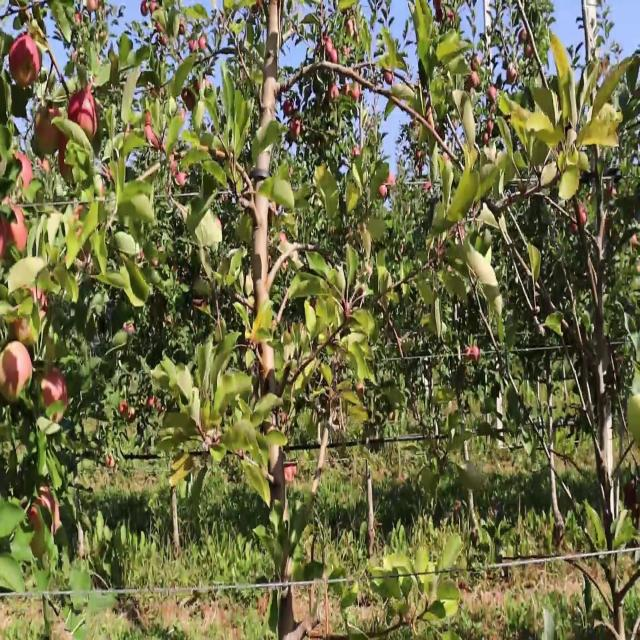apple: (0, 341, 33, 405), (8, 35, 43, 89), (68, 92, 100, 144), (40, 369, 69, 416), (32, 490, 61, 537), (36, 106, 62, 156), (4, 206, 28, 256), (12, 312, 35, 350), (28, 284, 50, 318), (16, 156, 35, 192), (144, 113, 162, 151), (292, 590, 311, 624), (60, 135, 74, 180), (280, 611, 302, 638), (172, 156, 189, 188), (260, 348, 276, 377), (316, 35, 334, 60), (468, 63, 481, 92), (260, 106, 275, 130), (288, 120, 303, 142), (629, 398, 640, 425), (140, 1, 155, 20), (184, 92, 196, 114), (284, 99, 295, 121), (328, 85, 340, 103), (488, 85, 499, 103), (0, 229, 6, 260), (200, 35, 210, 53), (188, 42, 199, 57), (508, 71, 519, 85), (352, 85, 361, 101), (344, 23, 354, 36), (352, 149, 363, 160), (280, 234, 288, 249), (332, 49, 340, 64), (436, 7, 444, 21), (448, 14, 455, 21)
